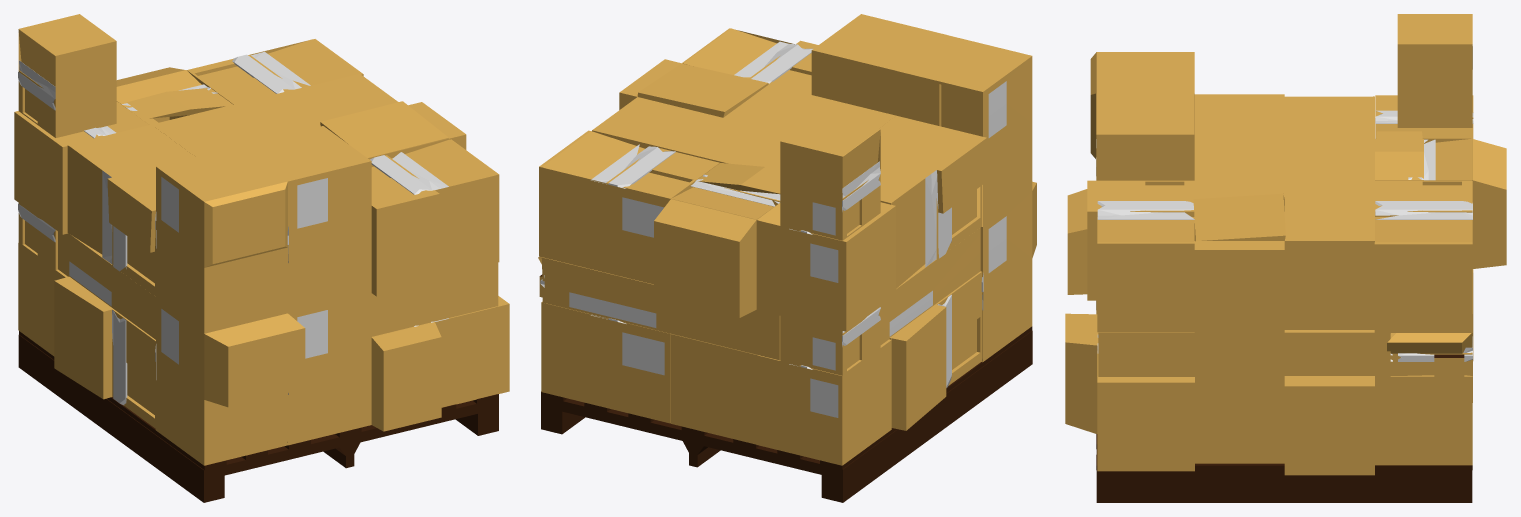
File: Box pallet.fbx
3 renders of one model, left to right at view 1: azimuth 30°, elevation 25°; view 2: azimuth 150°, elevation 25°; view 3: azimuth 270°, elevation 25°, orthographic. The views are drawn at different scales.
Visible parts, largest first — view 1: Cube; view 2: Cube; view 3: Cube.
Boxes of the visible parts, left/top/right/bottom form: Cube: left=14, top=14, right=509, bottom=502; Cube: left=538, top=14, right=1036, bottom=502; Cube: left=1065, top=14, right=1506, bottom=502.
Size of the model in its own units: 319 by 313 by 364.
